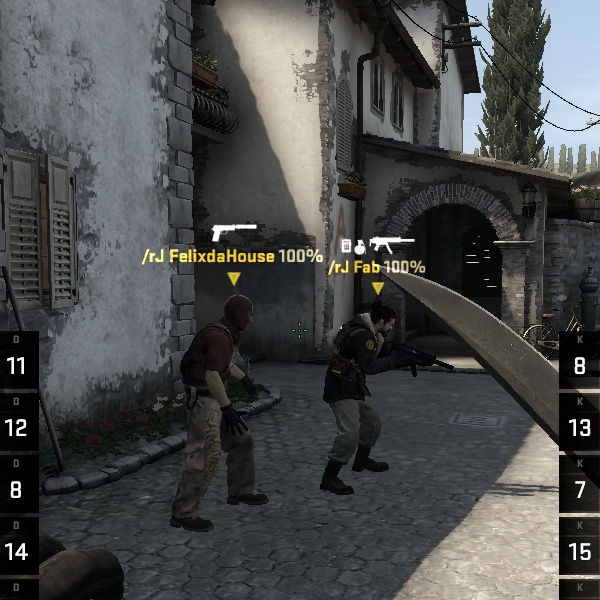t_body: (177, 291, 285, 517)
t_head: (210, 289, 263, 345)
